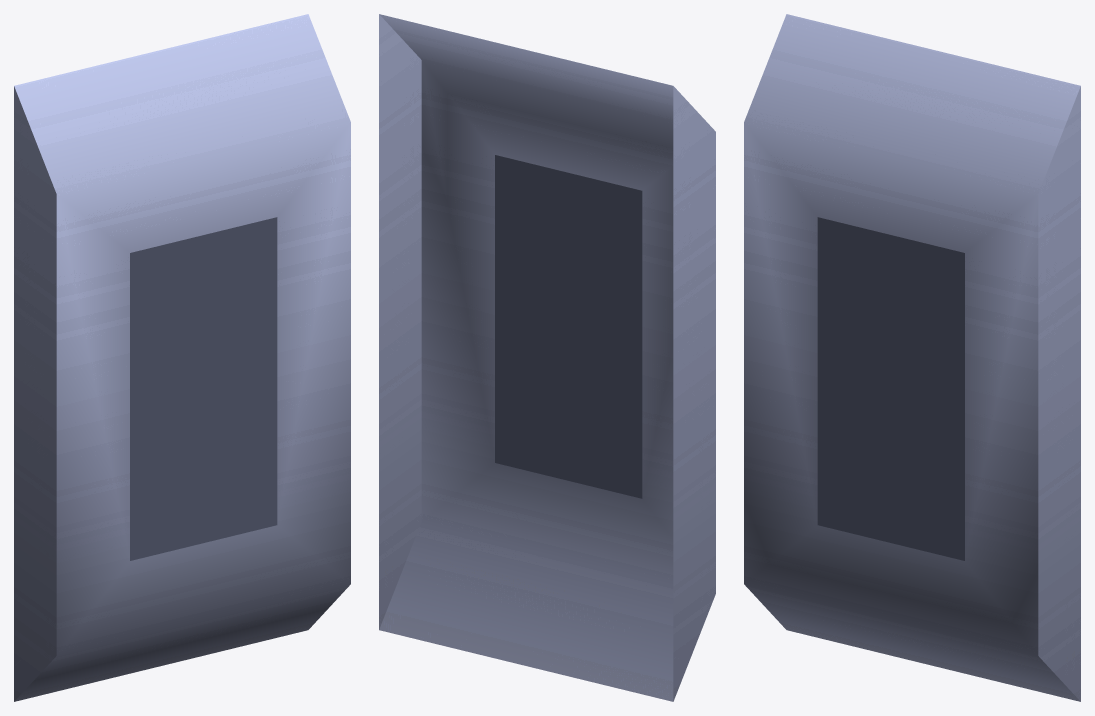
File: wall-switch.glb
3 views of the same model, side by side, from view 1: azimuth 30°, elevation 25°; view 2: azimuth 150°, elevation 25°; view 3: azimuth 330°, elevation 25° (orthographic).
Visible parts, largest first — view 1: wall-switch; view 2: wall-switch; view 3: wall-switch.
Part boxes in pixels (bbox=[...]): wall-switch: bbox=[14, 14, 350, 701]; wall-switch: bbox=[379, 14, 715, 701]; wall-switch: bbox=[744, 14, 1080, 701].
Size of the model in its own units: 0.1 by 0.2 by 0.025.
1 material, 1 textured.
